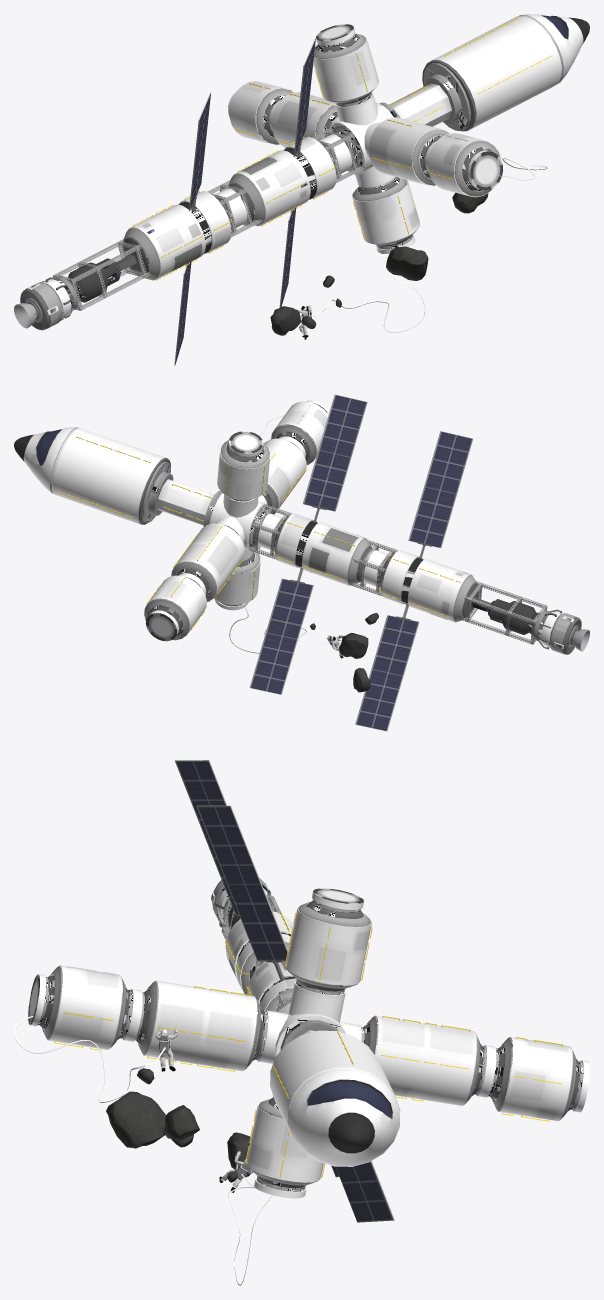
File: explorative_space_craft.glb
The picture shows the model from 3 angles, top to bottom: view 1: azimuth 30°, elevation 25°; view 2: azimuth 150°, elevation 25°; view 3: azimuth 270°, elevation 25°; orthographic projection. The views are drawn at different scales.
Visible parts, largest first — view 1: polySurface14371_FinalTexture_0, polySurface14371_Scaffold1_0, polySurface14371_phong4_0; view 2: polySurface14371_FinalTexture_0, polySurface14371_Scaffold1_0, polySurface14371_phong4_0; view 3: polySurface14371_FinalTexture_0, polySurface14371_phong4_0.
Part boxes in pixels (x1,y1,x2,y2): polySurface14371_FinalTexture_0: (14, 14, 589, 365); polySurface14371_Scaffold1_0: (53, 128, 363, 310); polySurface14371_phong4_0: (270, 192, 488, 335); polySurface14371_FinalTexture_0: (14, 394, 589, 731); polySurface14371_Scaffold1_0: (249, 504, 547, 644); polySurface14371_phong4_0: (310, 613, 378, 692); polySurface14371_FinalTexture_0: (14, 760, 589, 1285); polySurface14371_phong4_0: (106, 1068, 250, 1182).
Size of the model in its own units: 80.72 by 41.88 by 50.2.
6 materials, 5 textured.
